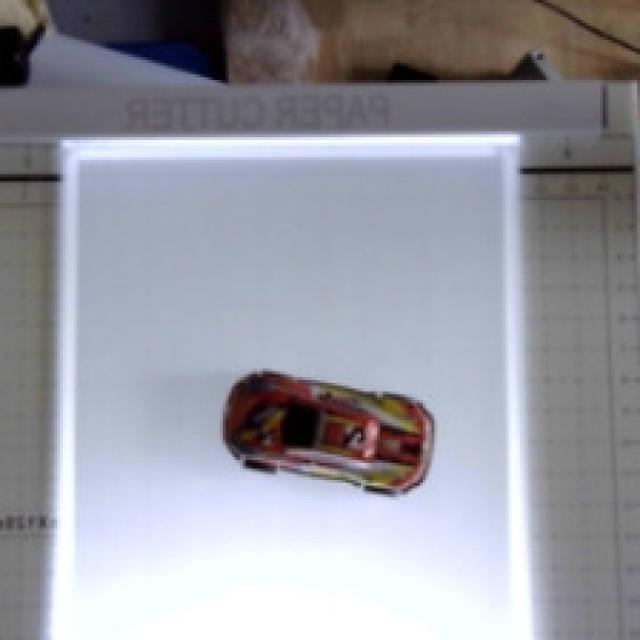Red Car: (209, 344, 471, 569)
